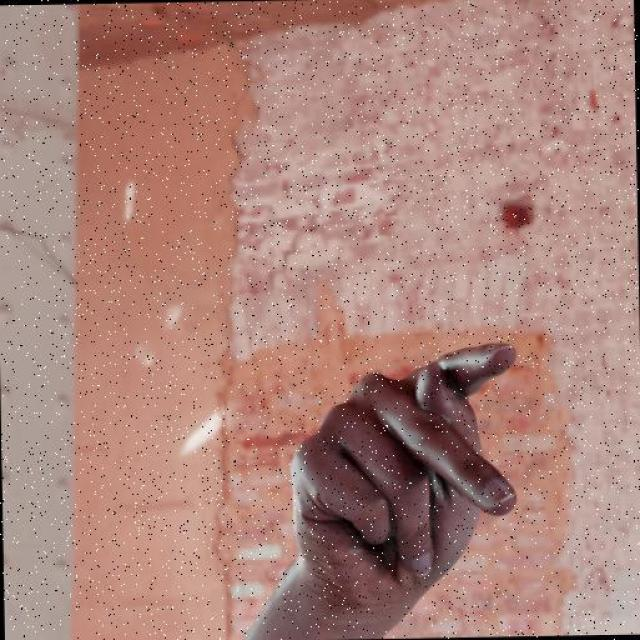P: (284, 334, 528, 617)
